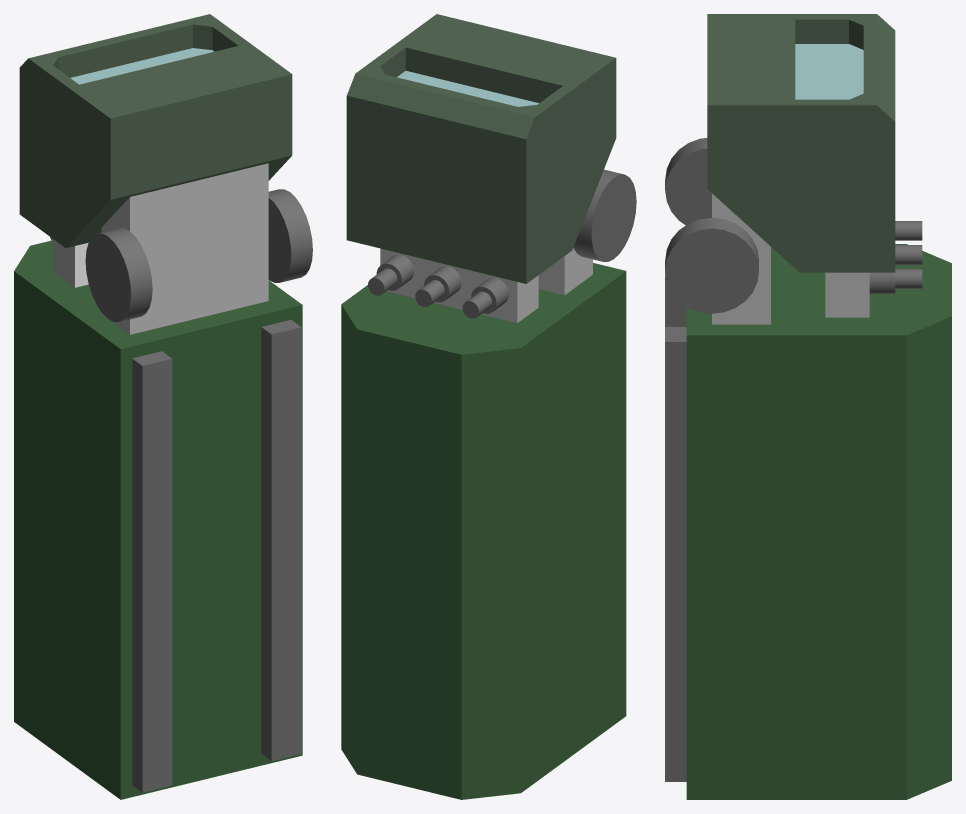
The model's file is goodapc.dae.
3 renders of one model, left to right at view 1: azimuth 30°, elevation 25°; view 2: azimuth 150°, elevation 25°; view 3: azimuth 270°, elevation 25°, orthographic. The views are drawn at different scales.
Parts seen in each view (by area): view 1: SketchUp (×10); view 2: SketchUp (×13); view 3: SketchUp (×14).
Boxes of the visible parts, <box> form: SketchUp (×10): <box>14,14,312,799</box>; SketchUp (×13): <box>341,14,636,799</box>; SketchUp (×14): <box>665,14,951,799</box>.
Size of the model in its own units: 7.98 by 10.57 by 28.25.
